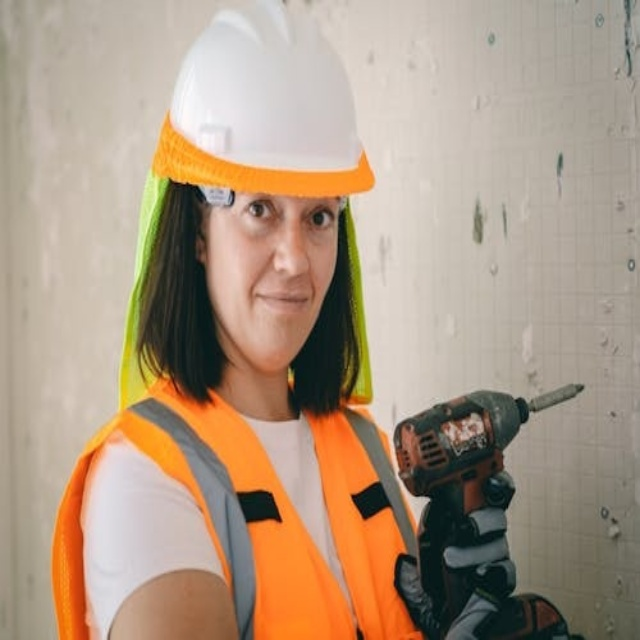Guantes: (432, 497, 521, 640)
Sin_gafas: (233, 193, 342, 254)
Sin_mascara: (244, 276, 315, 353)
